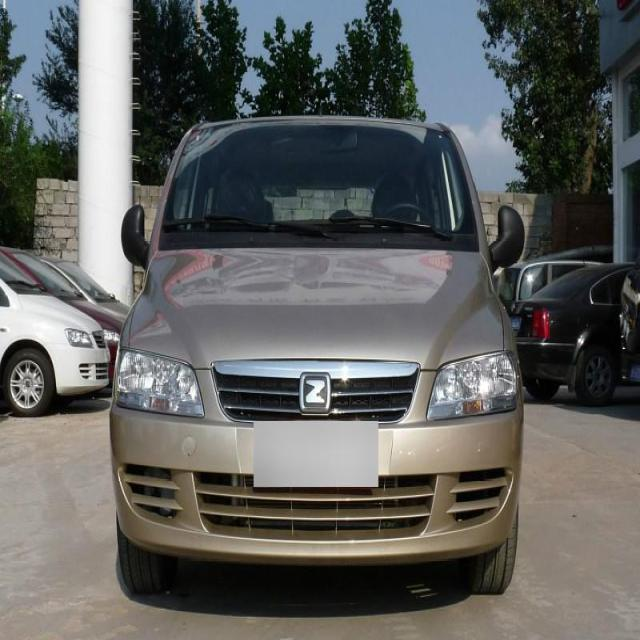front_bumper: (110, 405, 524, 568)
front_glass: (157, 120, 482, 252)
front_left_side_light: (424, 346, 518, 426)
front_left_side_mirror: (490, 202, 524, 270)
front_right_side_light: (112, 343, 205, 420)
front_right_side_mirror: (122, 204, 148, 269)
